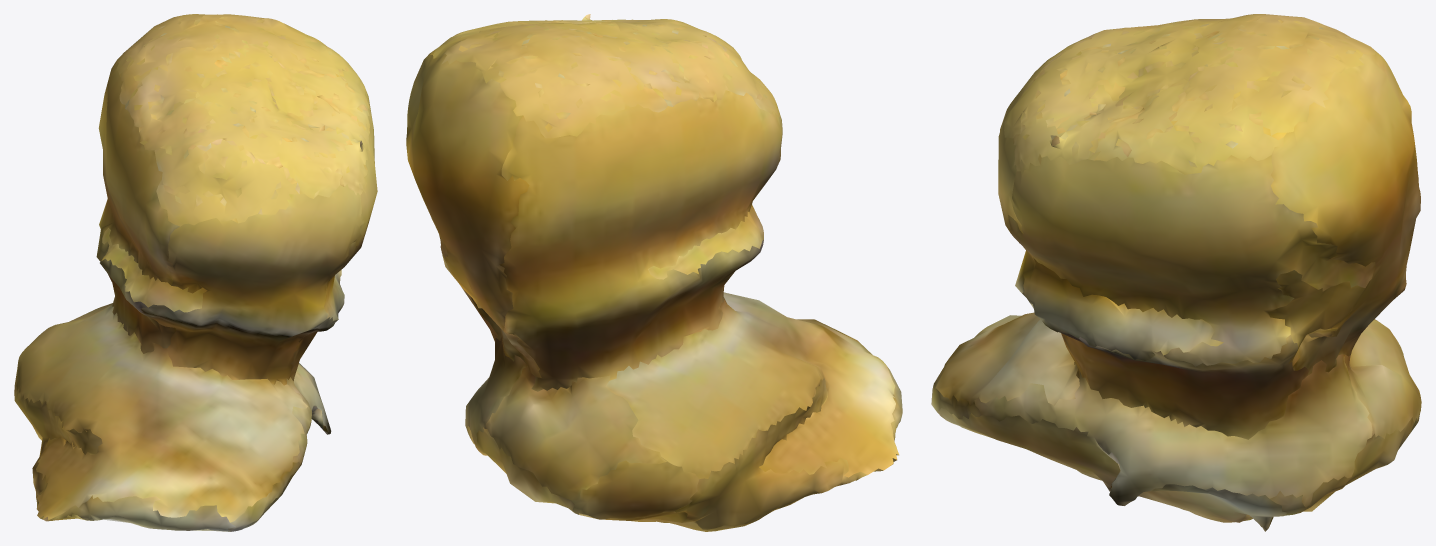
File: 18_chair.glb
3 views of the same model, side by side, from view 1: azimuth 30°, elevation 25°; view 2: azimuth 150°, elevation 25°; view 3: azimuth 270°, elevation 25° (orthographic). The views are drawn at different scales.
Visible parts, largest first — view 1: 18_chair; view 2: 18_chair; view 3: 18_chair.
Part boxes in pixels (x1,y1,x2,y2): 18_chair: (14,14,377,531); 18_chair: (406,14,902,531); 18_chair: (931,14,1421,531).
Bounding box in the file's own units: 0.6871 × 0.7413 × 0.6569.
1 material, 1 textured.
